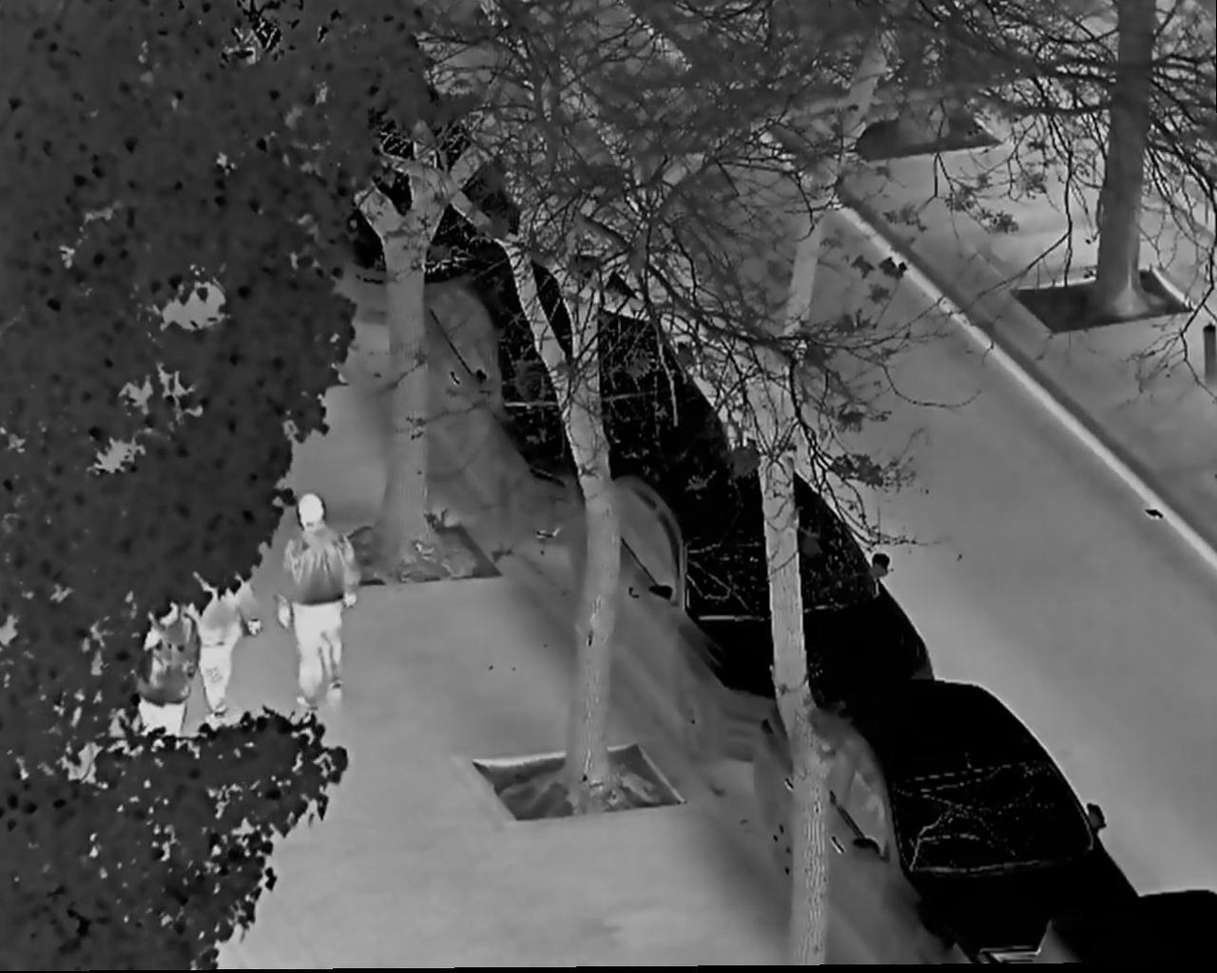person: (280, 494, 358, 710), (131, 587, 202, 816), (186, 526, 264, 734)
